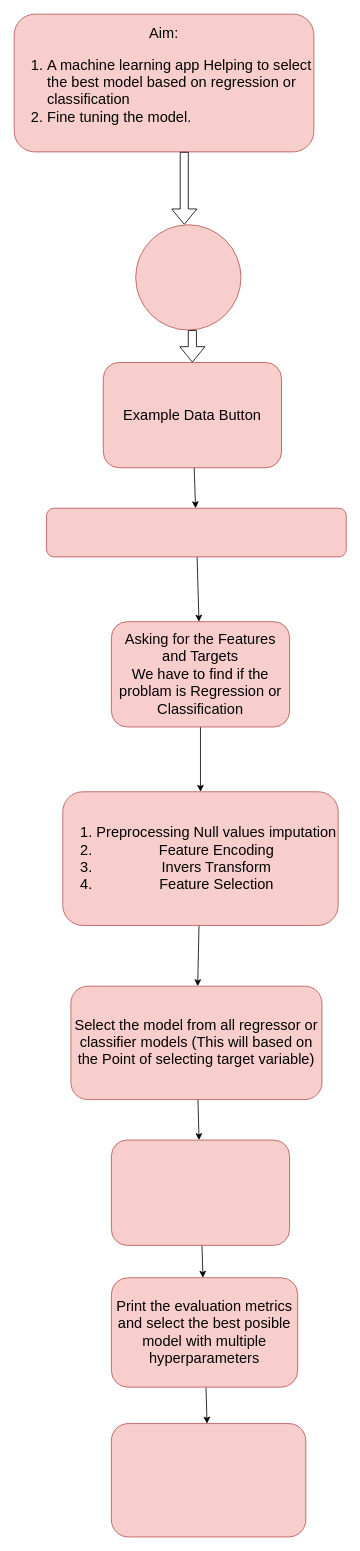
Some shapes in this 360 by 1551 pixel diagram are drawn without their labels. Here are the shapes that lost their labels. From the top down, the centre of each, then its label:
At (188,277): "Load the Data or Upload the data".
At (196,532): "Check the column names and data types".
At (200,1192): "Add the evaluation metrics based on the problem".
